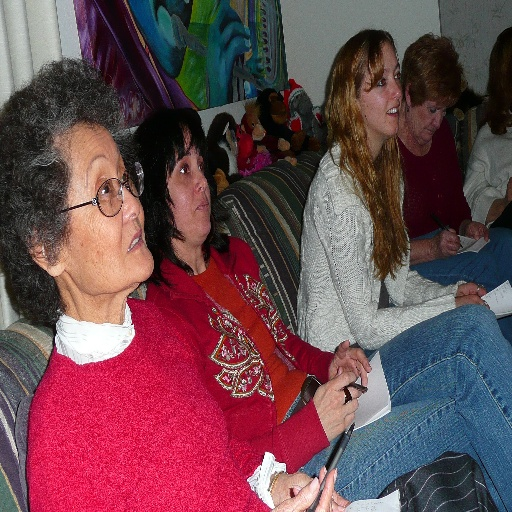hand: (311, 363, 363, 442), (268, 471, 353, 511), (270, 463, 337, 511), (328, 336, 372, 395), (431, 226, 462, 257), (465, 219, 490, 246), (455, 292, 491, 309), (455, 281, 488, 299), (504, 176, 511, 208)
